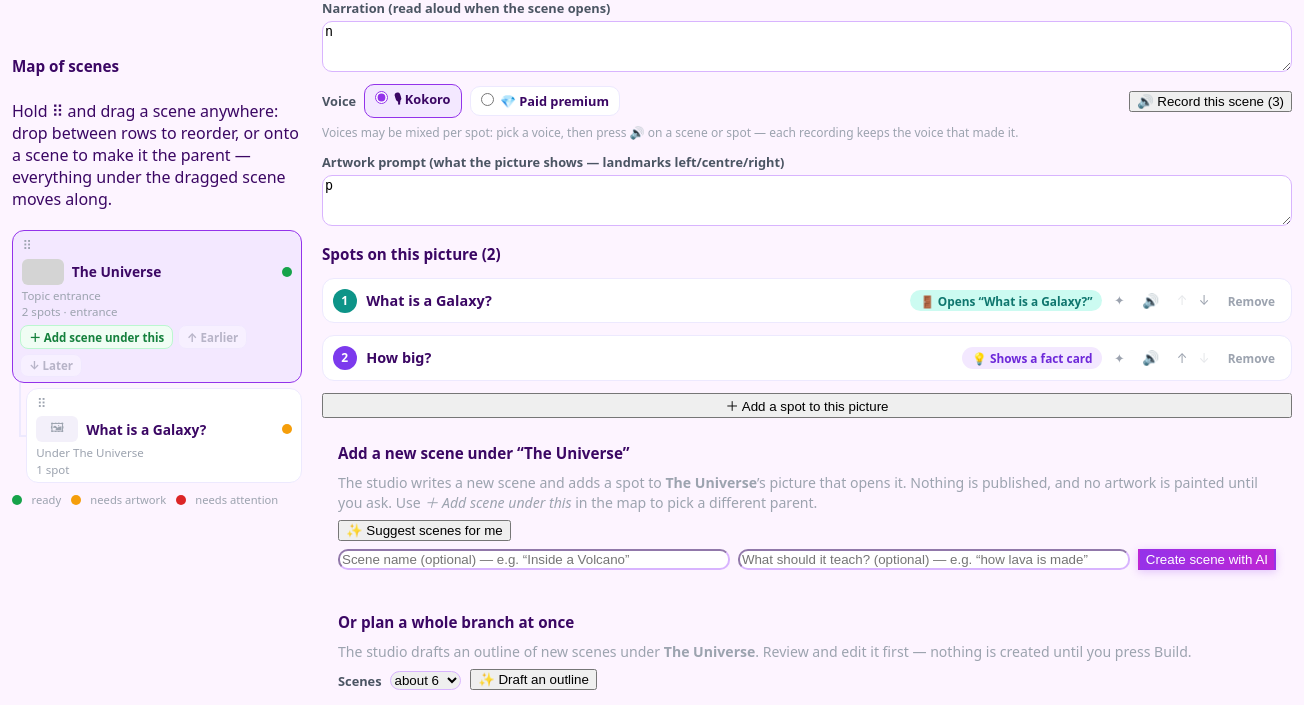
Test: WikidoStudio — plain-language editor › Topic Builder › removing a node removes its subtree from the plan
The width and height of the screenshot is (1304, 705).
(page scrolled)
Click the button "✨ Draft an outline" at {"x": 533, "y": 680}, box [470, 669, 597, 690]
(page scrolled)
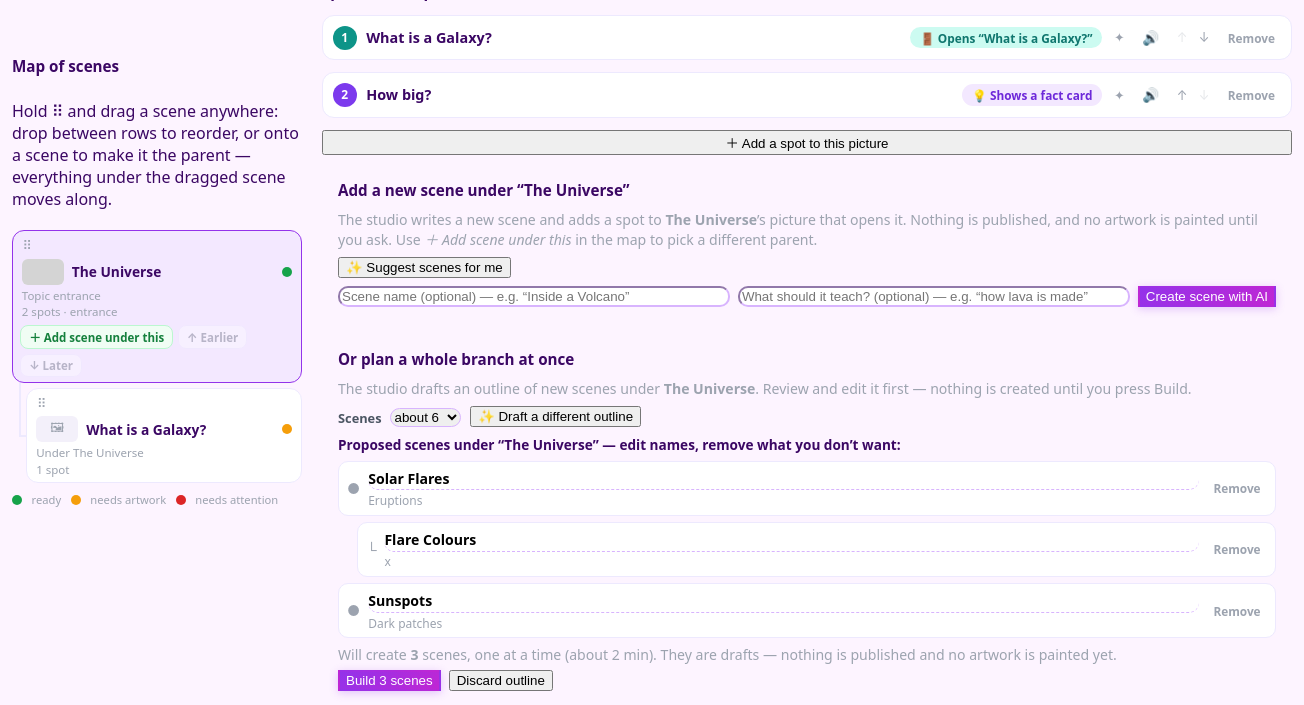
Click the button with class "spot-del" in the row of "Eruptions" at {"x": 1237, "y": 488}, box [1207, 477, 1267, 499]
(page scrolled)
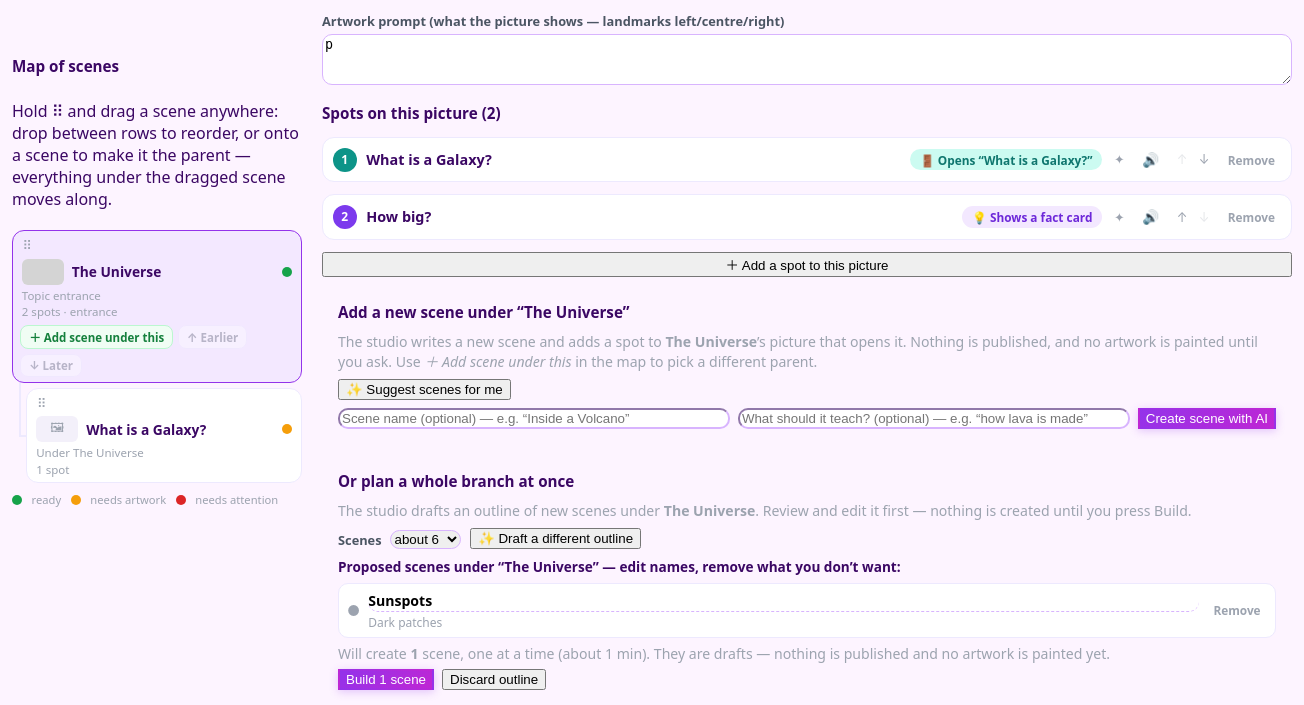
Now the button "Build 1 scene" is shown, box [338, 669, 434, 690]
Now the number of elements with class "outline-row" is 1, box [338, 582, 1276, 638]
